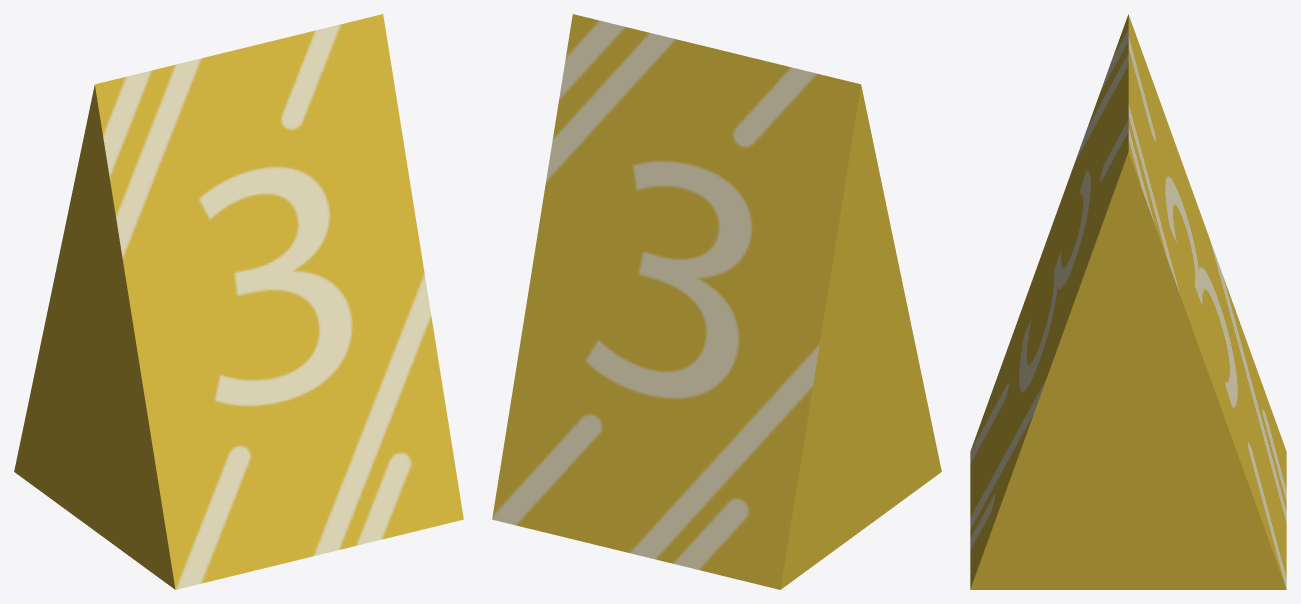
Rendered from ClueMarker3.fbx.
3 renders of one model, left to right at view 1: azimuth 30°, elevation 25°; view 2: azimuth 150°, elevation 25°; view 3: azimuth 270°, elevation 25°, orthographic.
Visible parts, largest first — view 1: ClueMesh; view 2: ClueMesh; view 3: ClueMesh.
Part boxes in pixels (bbox=[...]): ClueMesh: bbox=[14, 14, 463, 589]; ClueMesh: bbox=[492, 14, 941, 589]; ClueMesh: bbox=[970, 14, 1286, 589].
Size of the model in its own units: 2.56 by 3.79 by 2.48.
Materials: 2 (2 with a texture image).
